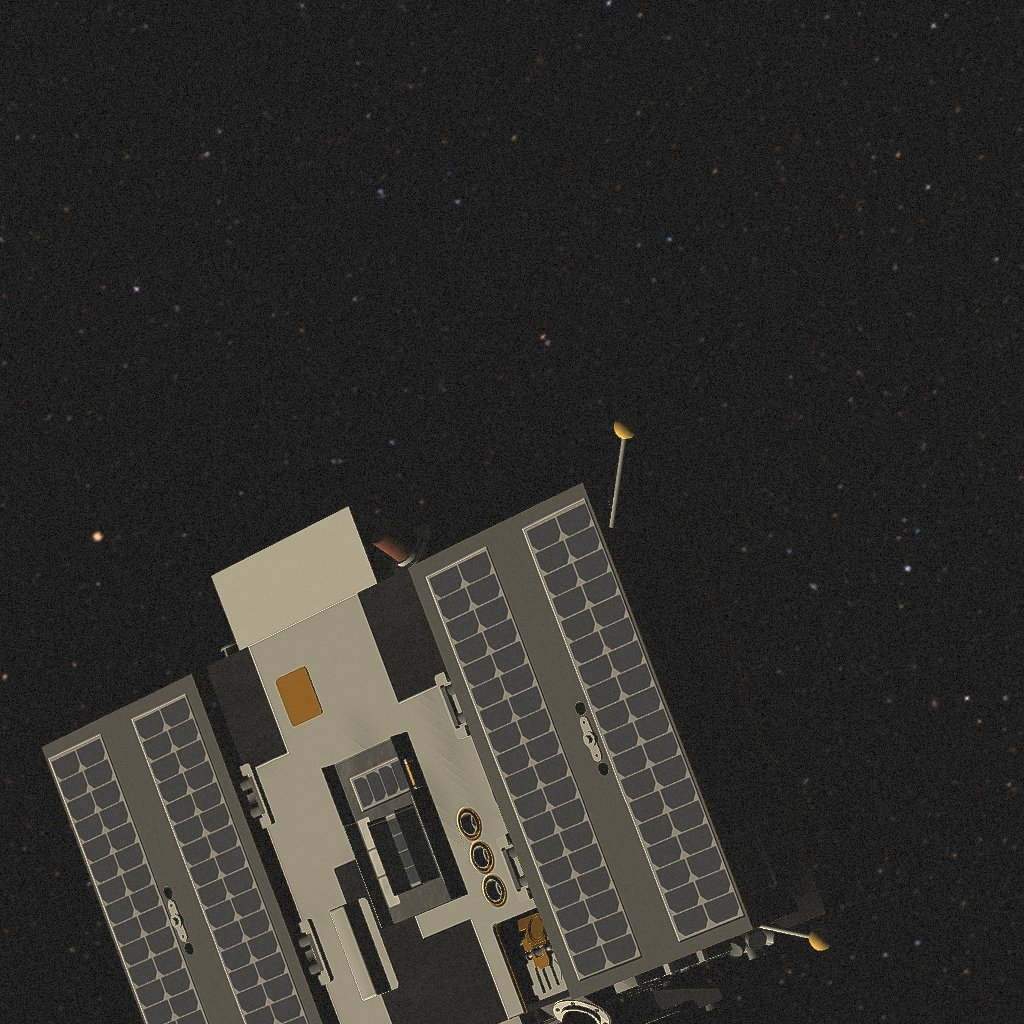proba_2: (52, 431, 804, 1016)
